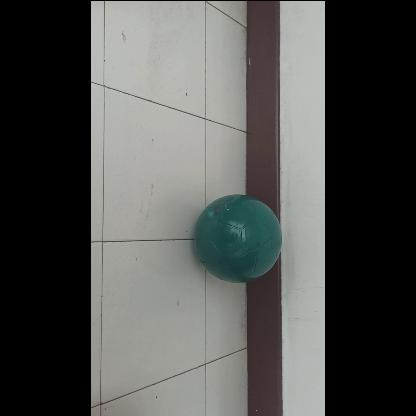green_ball: (196, 195, 284, 283)
